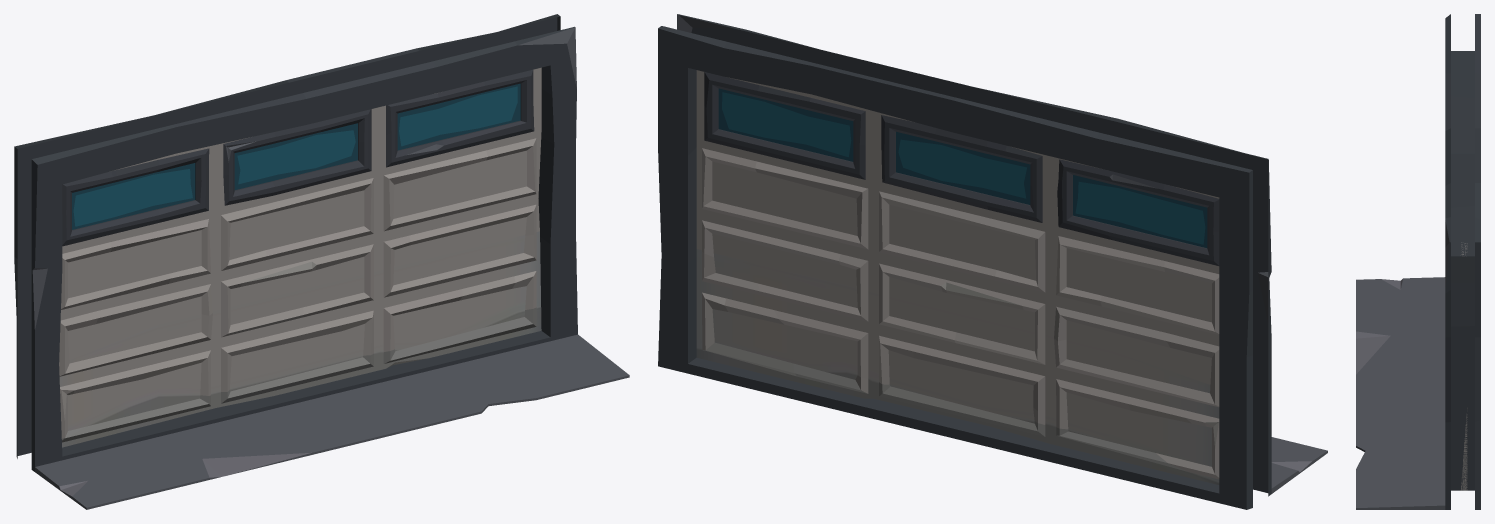
Rendered from SM_Garage_Gate.fbx.
3 renders of one model, left to right at view 1: azimuth 30°, elevation 25°; view 2: azimuth 150°, elevation 25°; view 3: azimuth 270°, elevation 25°, orthographic. The views are drawn at different scales.
Visible parts, largest first — view 1: SM_Gate, SM_Garage_Gate; view 2: SM_Gate, SM_Garage_Gate; view 3: SM_Garage_Gate, SM_Gate.
Boxes of the visible parts, left/top/right/bottom form: SM_Gate: left=59, top=67, right=541, bottom=447; SM_Garage_Gate: left=14, top=14, right=629, bottom=509; SM_Gate: left=696, top=70, right=1219, bottom=484; SM_Garage_Gate: left=658, top=14, right=1327, bottom=509; SM_Garage_Gate: left=1356, top=14, right=1480, bottom=509; SM_Gate: left=1461, top=242, right=1467, bottom=490.
Size of the model in its own units: 445 by 243 by 103.
